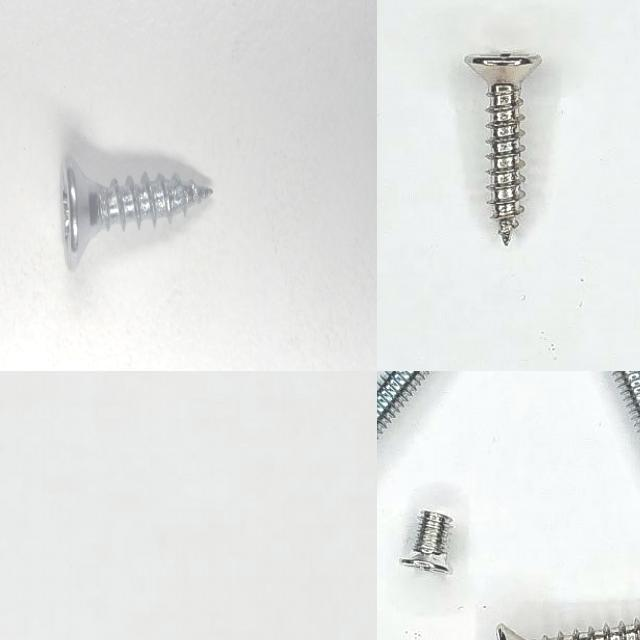Screw: (60, 154, 213, 270), (465, 53, 541, 245), (400, 511, 453, 573)
